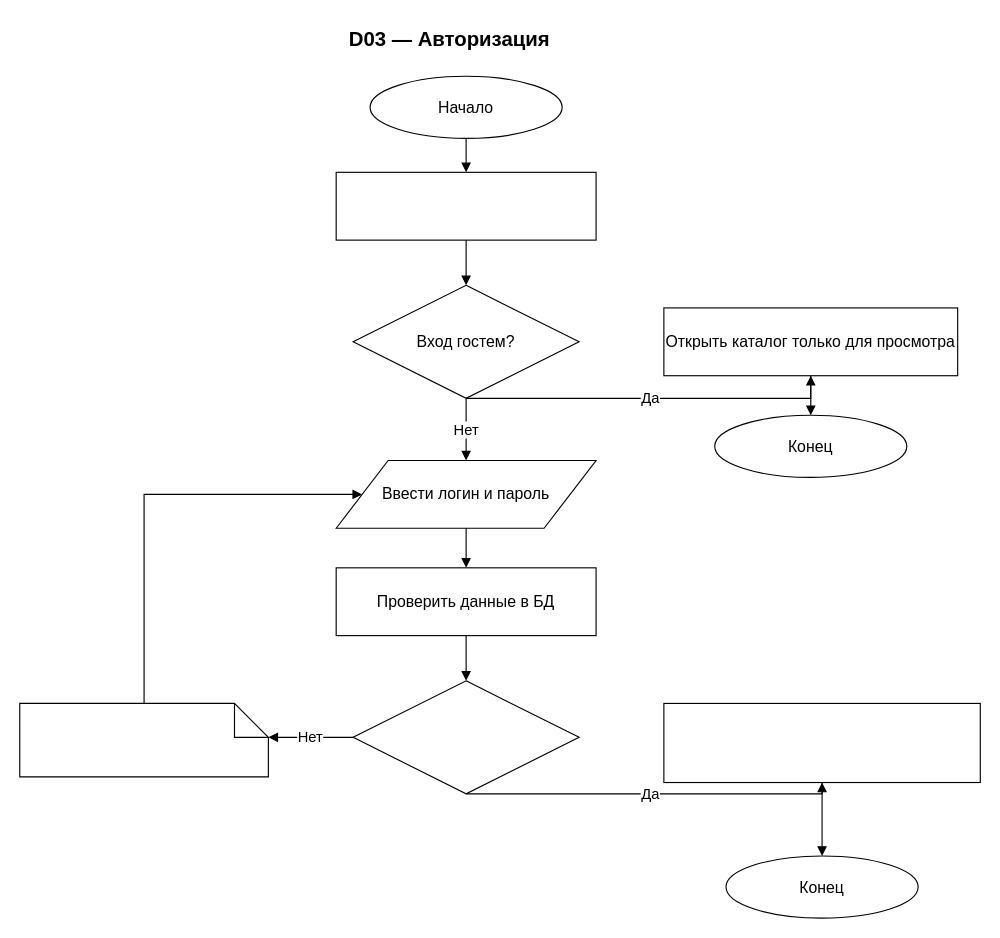
Some shapes in this 1000 by 938 pixel diagram are drawn without their labels. Each missing label, with the centre of its shape:
Данные верны?: point 465,737
Окно входа: point 465,205
Определить роль и открыть доступный интерфейс: point 821,742
Сообщение об ошибке: point 143,739
